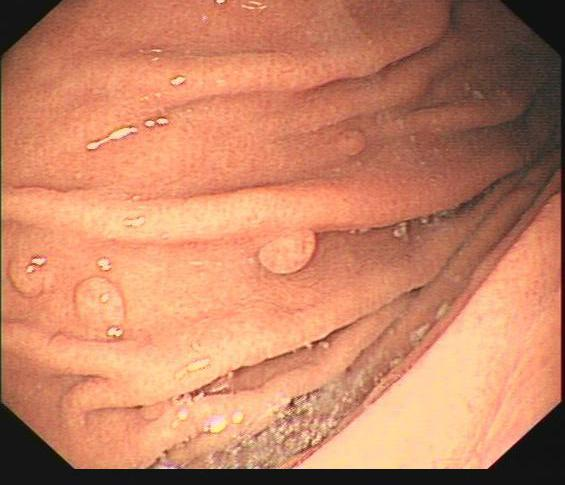Polyp: (6, 233, 183, 433), (243, 218, 333, 289)
